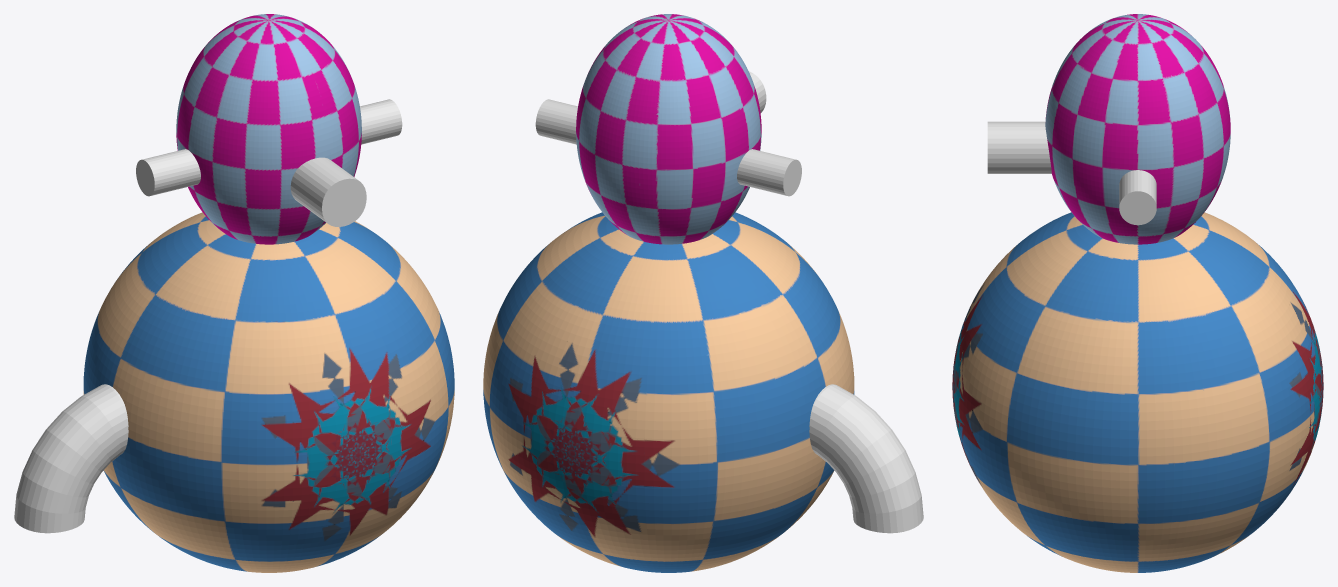
Rendered from BOD0_BMC8_BCC12_BPT4_FRC15_HEA2_HMC10_HCC15_HPT4_ELT1_ERT1_ELL1_ERL2_AP1_AAL2_AAR2_BEK1.fbx.
3 views of the same model, side by side, from view 1: azimuth 30°, elevation 25°; view 2: azimuth 150°, elevation 25°; view 3: azimuth 270°, elevation 25° (orthographic).
Visible parts, largest first — view 1: Body, Arm, Beak, Ear, Ear.001; view 2: Body, Arm, Ear, Ear.001; view 3: Body, Beak, Ear.001.
Part boxes in pixels (<box>): Body: <box>83,14,454,572</box>; Arm: <box>14,384,128,533</box>; Beak: <box>290,157,366,226</box>; Ear: <box>136,149,200,196</box>; Ear.001: <box>360,99,402,144</box>; Body: <box>483,14,854,572</box>; Arm: <box>809,384,923,533</box>; Ear: <box>737,149,801,196</box>; Ear.001: <box>535,99,577,144</box>; Body: <box>952,14,1323,572</box>; Beak: <box>987,121,1051,173</box>; Ear.001: <box>1119,170,1156,225</box>.
Size of the model in its own units: 62.99 by 78.65 by 49.36.
Materials: 1 (1 with a texture image).
